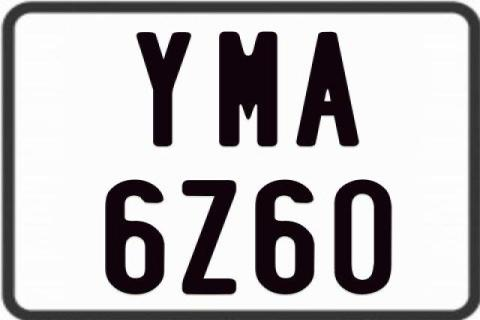0: (255, 178, 316, 296), (334, 180, 394, 298), (104, 178, 165, 294)
A: (296, 31, 361, 148)
M: (218, 30, 281, 146)
Y: (134, 32, 188, 151)
Z: (179, 179, 237, 293)
